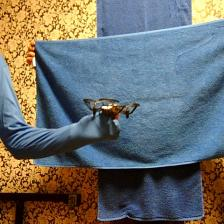drone: (83, 98, 140, 119)
